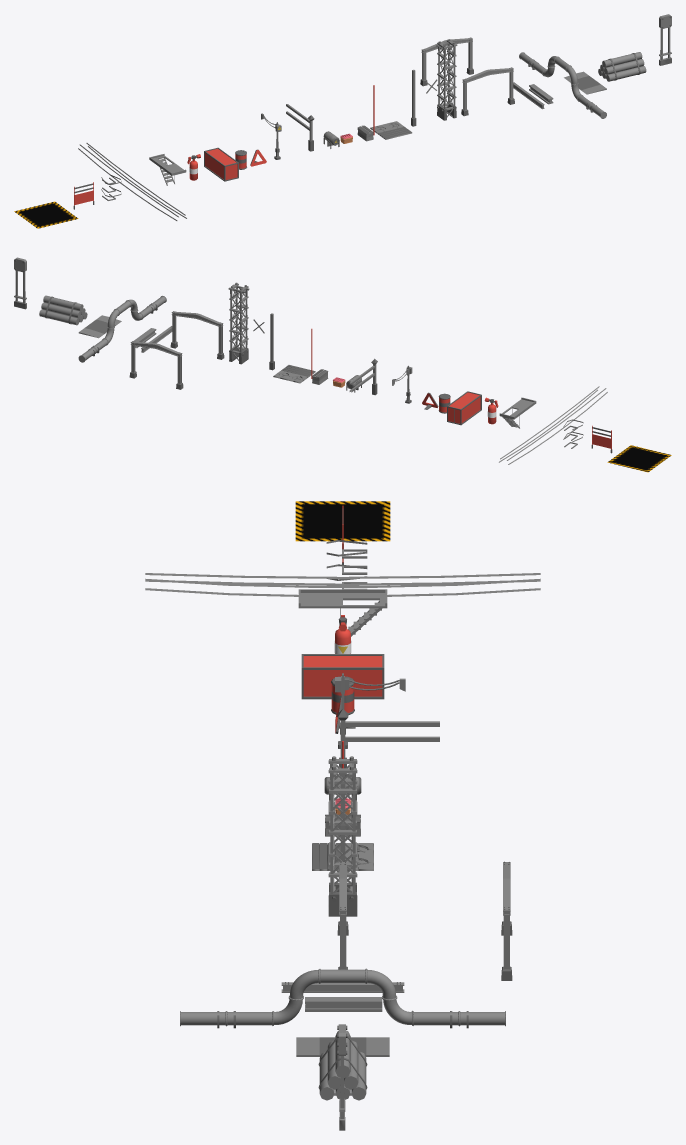
File: depoMalzemeler.fbx
3 renders of one model, top to bottom at view 1: azimuth 30°, elevation 25°; view 2: azimuth 150°, elevation 25°; view 3: azimuth 270°, elevation 25°, orthographic. The views are drawn at different scales.
Parts seen in each view (by area): view 1: caprazDirek, dikkatPng, borular, kontyner, kablolar, metalKemer, metalKemer2, merdiven, pervaneler, metalDestek, rampa, demirCit; view 2: caprazDirek, dikkatPng, borular, kontyner, kablolar, metalKemer, metalKemer2, pervaneler, merdiven, metalDestek, rampa, demirCit; view 3: dikkatPng, caprazDirek, kablolar, kontyner, borular, merdiven, demirCit, rampa, celikSutun, pervaneler, metalKemer2, metalKiris.
Boxes of the visible parts, x1,y1,x2,y2 form: caprazDirek: (436,39,457,120); dikkatPng: (14,201,78,228); borular: (598,52,646,81); kontyner: (204,147,238,181); kablolar: (78,143,186,220); metalKemer: (461,67,514,116); metalKemer2: (420,37,473,86); merdiven: (149,154,186,185); pervaneler: (370,121,412,139); metalDestek: (659,14,671,65); rampa: (564,71,606,94); demirCit: (286,104,314,151); caprazDirek: (228,282,249,364); dikkatPng: (607,445,671,472); borular: (39,295,87,325); kontyner: (447,391,481,425); kablolar: (499,386,607,464); metalKemer: (170,311,224,359); metalKemer2: (129,341,183,389); pervaneler: (273,365,315,383); merdiven: (499,397,536,428); metalDestek: (14,257,26,309); rampa: (78,315,121,338); demirCit: (349,358,377,395); dikkatPng: (295,501,390,541); caprazDirek: (328,756,357,916); kablolar: (145,573,540,596); kontyner: (301,654,384,699); borular: (318,1030,367,1100); merdiven: (298,589,387,636); demirCit: (337,709,439,775); rampa: (296,1037,389,1056); celikSutun: (305,997,382,1011); pervaneler: (312,843,373,870); metalKemer2: (501,861,512,980); metalKiris: (281,982,404,992).
Bounding box in the file's own units: 19194 × 2210 × 5093.
